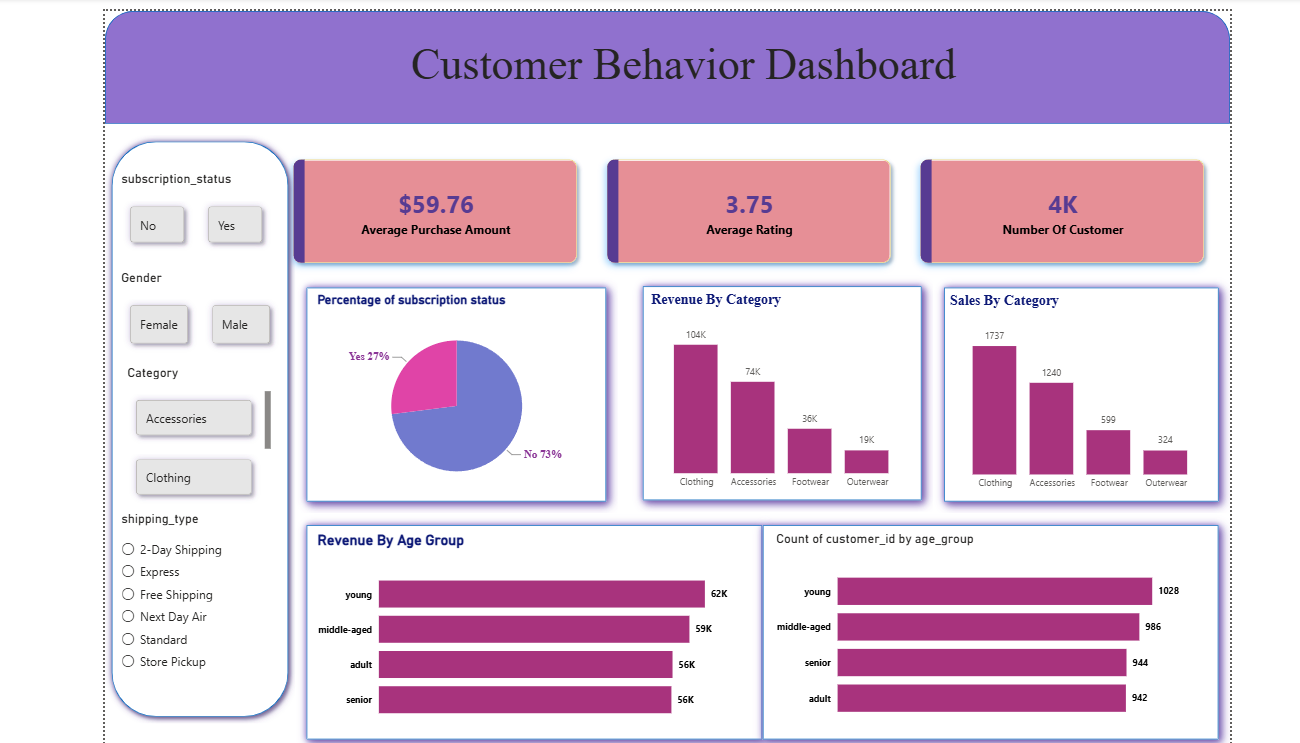

The page's visual inventory and layout, read from the dashboard file:
{"tool":"powerbi","page":{"name":"Page 1","canvas":[1500,1050],"ordinal":0},"visuals":[{"type":"cardVisual","fields":{"Data":["customer.Average Purchase Amount","customer.Average Rating","customer.Number Of Customer"]},"box":[218.6,165.7,1281.3,204.7],"z":0},{"type":"shape","box":[0,0,1499.9,150.4],"z":1},{"type":"textbox","box":[69.6,33.4,1402.4,91.9],"z":2},{"type":"shape","box":[253.3,353.3,430.3,316.1],"z":3},{"type":"pieChart","title":"Percentage of subscription status","fields":{"Category":["customer.subscription_status"],"Y":["CountNonNull(customer.customer_id)"]},"box":[278.3,375,381.6,273],"z":4},{"type":"shape","box":[1103.3,353.3,396.9,316.1],"z":5},{"type":"shape","box":[701.7,351.7,402.5,316.1],"z":6},{"type":"clusteredColumnChart","title":"Revenue By Category","fields":{"Category":["customer.category"],"Y":["Sum(customer.purchase_amount)"]},"box":[723.3,373.3,359.3,273],"z":7},{"type":"clusteredColumnChart","title":"Sales By Category","fields":{"Category":["customer.category"],"Y":["CountNonNull(customer.customer_id)"]},"box":[1121.7,375,359.3,273],"z":8},{"type":"shape","box":[0,165,253.3,785],"z":9},{"type":"advancedSlicerVisual","fields":{"Values":["customer.subscription_status"]},"box":[17.1,212.9,210,112.9],"z":10},{"type":"advancedSlicerVisual","fields":{"Values":["customer.gender"]},"box":[16.7,345,220,115.7],"z":11},{"type":"advancedSlicerVisual","fields":{"Values":["customer.category"]},"box":[25,471.7,201.7,195],"z":12},{"type":"listSlicer","fields":{"Values":["customer.shipping_type"]},"box":[16.7,666.7,210,233.3],"z":13},{"type":"clusteredBarChart","box":[320,716.7,414,233],"z":14},{"type":"shape","box":[253.3,670,638.3,316.7],"z":15},{"type":"clusteredBarChart","title":"Revenue By Age Group","fields":{"Category":["customer.age_group"],"Y":["Sum(customer.purchase_amount)"]},"box":[278.3,695,581.7,266.7],"z":16},{"type":"shape","box":[862,670,638.3,316.7],"z":17},{"type":"clusteredBarChart","fields":{"Category":["customer.age_group"],"Y":["CountNonNull(customer.customer_id)"]},"box":[890,694,581.7,266.7],"z":18}]}

Visuals, with their boxes on the page's 1500x1050 design canvas (x1, y1, x2, y2). These are canvas units, not pixel positions in the 1300x743 screenshot, which may show the page scaled, cropped or inside an application window:
cardVisual - customer.Average Purchase Amount x customer.Average Rating: 219 166 1500 370
shape: 0 0 1500 150
textbox: 70 33 1472 125
shape: 253 353 684 669
"Percentage of subscription status" pieChart: 278 375 660 648
shape: 1103 353 1500 669
shape: 702 352 1104 668
"Revenue By Category" clusteredColumnChart: 723 373 1083 646
"Sales By Category" clusteredColumnChart: 1122 375 1481 648
shape: 0 165 253 950
advancedSlicerVisual - customer.subscription_status: 17 213 227 326
advancedSlicerVisual - customer.gender: 17 345 237 461
advancedSlicerVisual - customer.category: 25 472 227 667
listSlicer - customer.shipping_type: 17 667 227 900
clusteredBarChart: 320 717 734 950
shape: 253 670 892 987
"Revenue By Age Group" clusteredBarChart: 278 695 860 962
shape: 862 670 1500 987
clusteredBarChart - customer.age_group x CountNonNull(customer.customer_id): 890 694 1472 961
